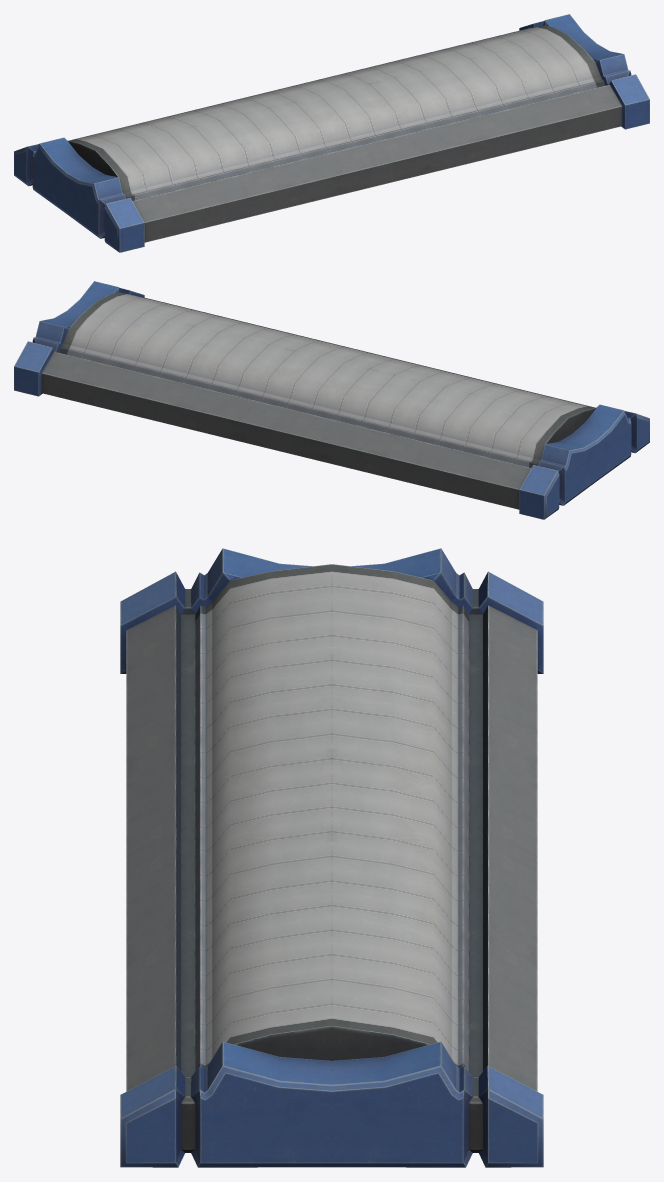
File: DS_SM025_Scifi_Room_BulbRoof_01.fbx
3 views of the same model, one above another, from view 1: azimuth 30°, elevation 25°; view 2: azimuth 150°, elevation 25°; view 3: azimuth 270°, elevation 25° (orthographic). The views are drawn at different scales.
Parts seen in each view (by area): view 1: DS_SM025_Scifi_Room_BulbRoof_01_LP; view 2: DS_SM025_Scifi_Room_BulbRoof_01_LP; view 3: DS_SM025_Scifi_Room_BulbRoof_01_LP.
Boxes of the visible parts, x1,y1,x2,y2 form: DS_SM025_Scifi_Room_BulbRoof_01_LP: (14,14,649,252); DS_SM025_Scifi_Room_BulbRoof_01_LP: (14,281,649,519); DS_SM025_Scifi_Room_BulbRoof_01_LP: (120,548,543,1167).
Size of the model in its own units: 1268 by 129 by 436.
1 material, 1 textured.
